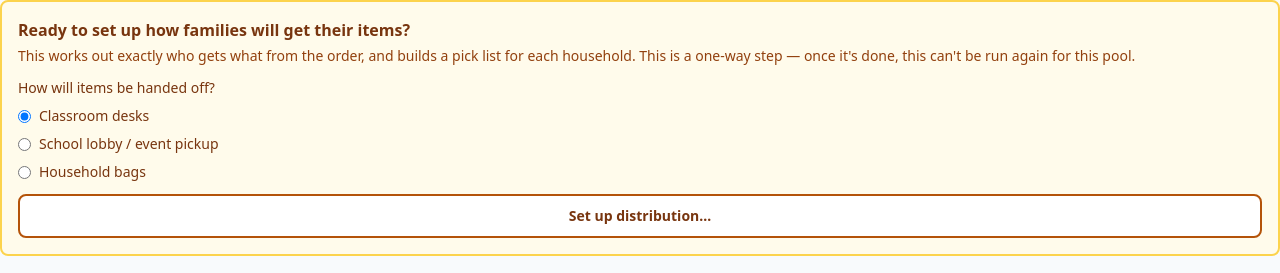
Test case: GenerateDistributionAction › requires picking a mode and passing through the two-step confirm before POSTing
The width and height of the screenshot is (1280, 273).
Later steps or results of the test are not shown.
Check: the text "How will items be handed off?" is shown, box left=18, top=78, right=215, bottom=98
What coordinates should you click on to do the following:
click the radio button labelled "Household bags"
I would click on:
 (24, 172)
Its box is left=18, top=166, right=31, bottom=178.
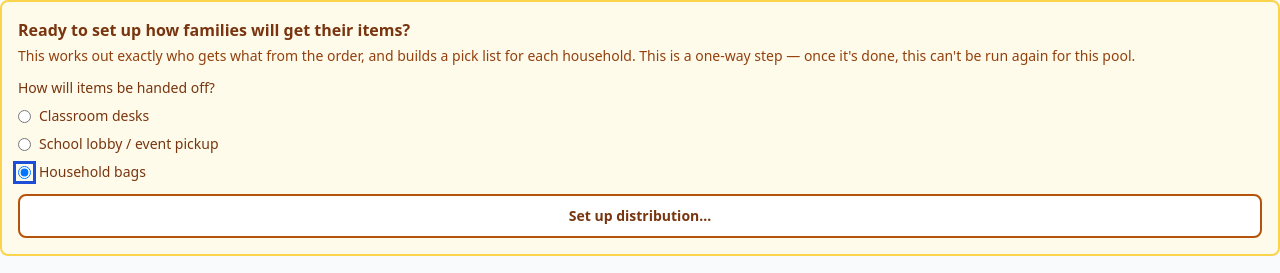
What coordinates should you click on to do the following:
click the button "Set up distribution…"
I would click on:
 (640, 216)
Its box is left=18, top=194, right=1262, bottom=238.
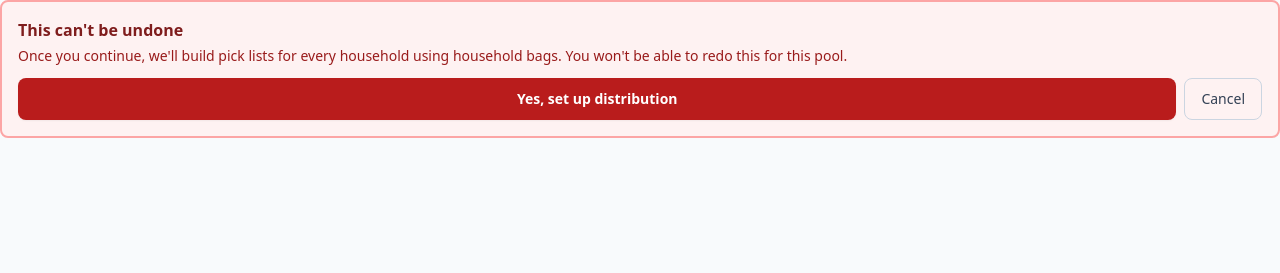
Check: the heading "This can't be undone" is shown, box left=18, top=19, right=183, bottom=41
